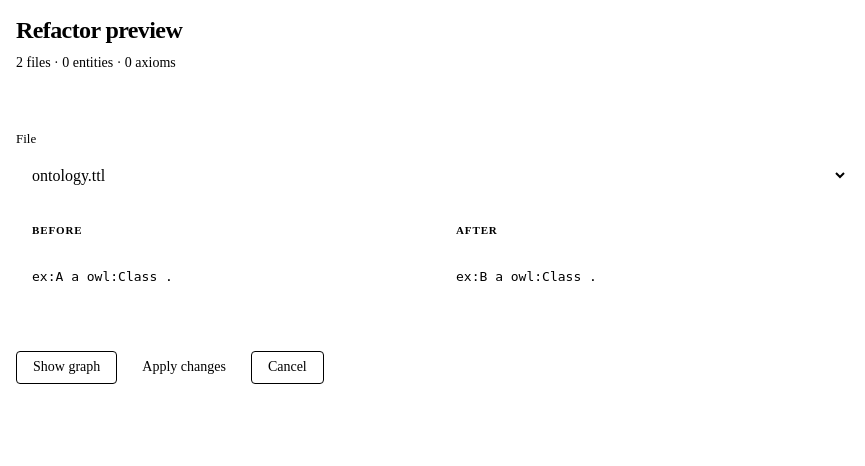
Scenario: RefactorPreviewPanel › resets selected file when a new plan arrives
This screenshot has width=865, height=466.
Expected: the heading "Refactor preview" is shown, left=16, top=16, right=182, bottom=45
Select "imports.ttl" in the dropdown labelled "File" at (432, 176), box left=16, top=157, right=848, bottom=194
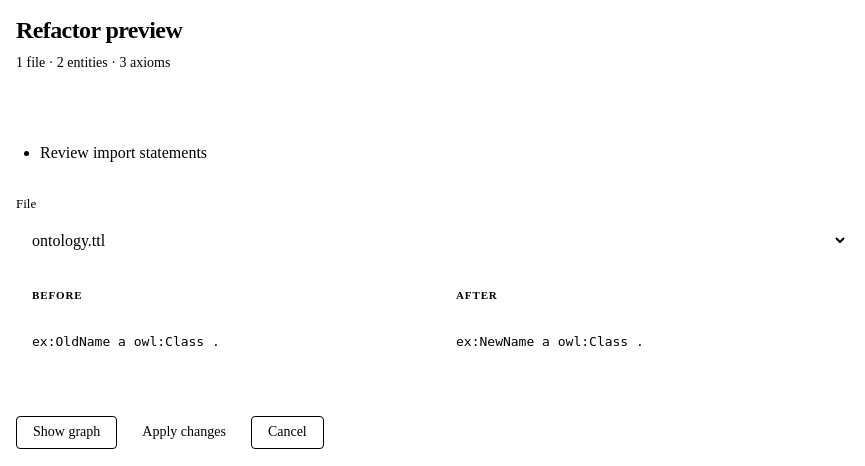
Result: the text "ex:OldName a owl:Class ." is shown at left=32, top=334, right=220, bottom=349
